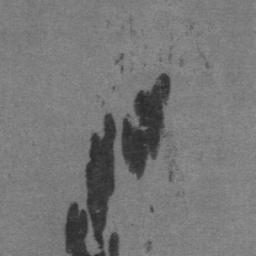Iron scale compression: (65, 113, 120, 256), (121, 73, 171, 181)
